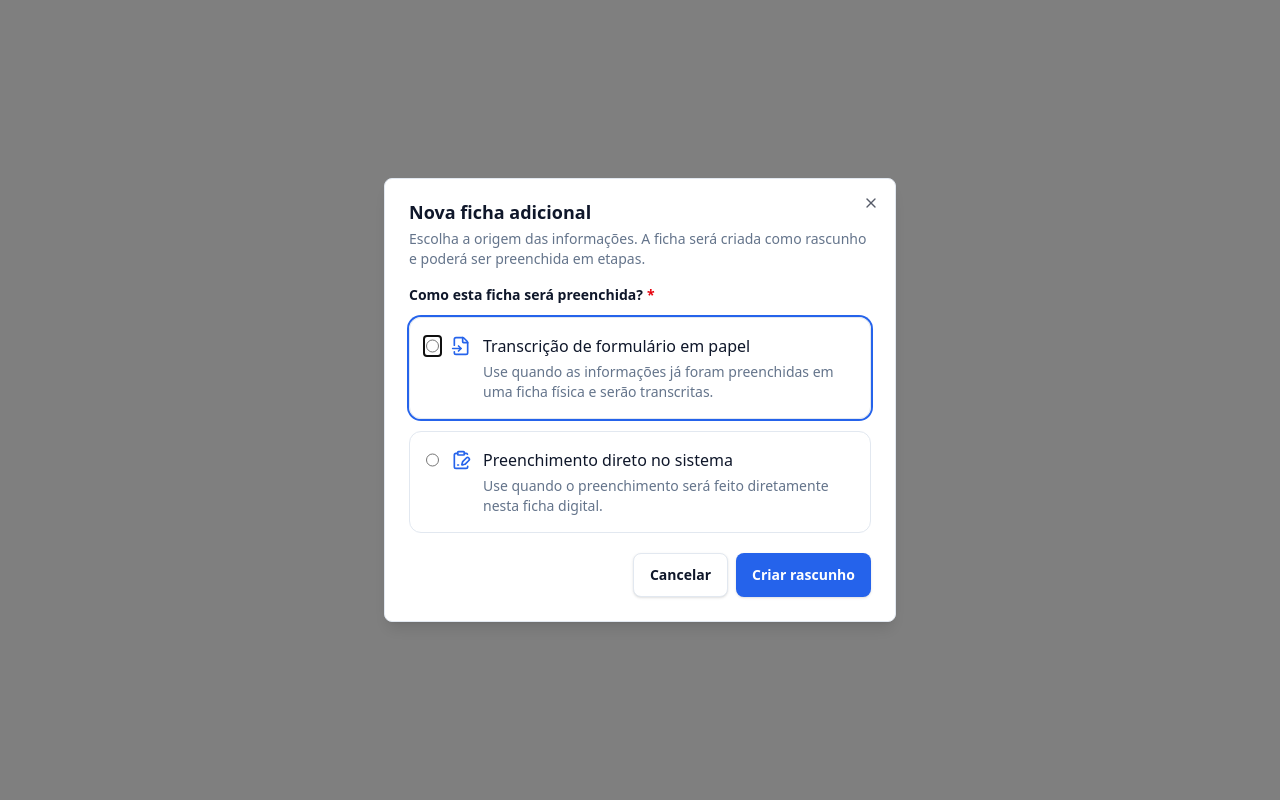
Test: CreateOratorianoFormDialog › exige a origem com mensagem explícita em português
Click the button "Criar rascunho" at (804, 575), box [736, 553, 871, 597]
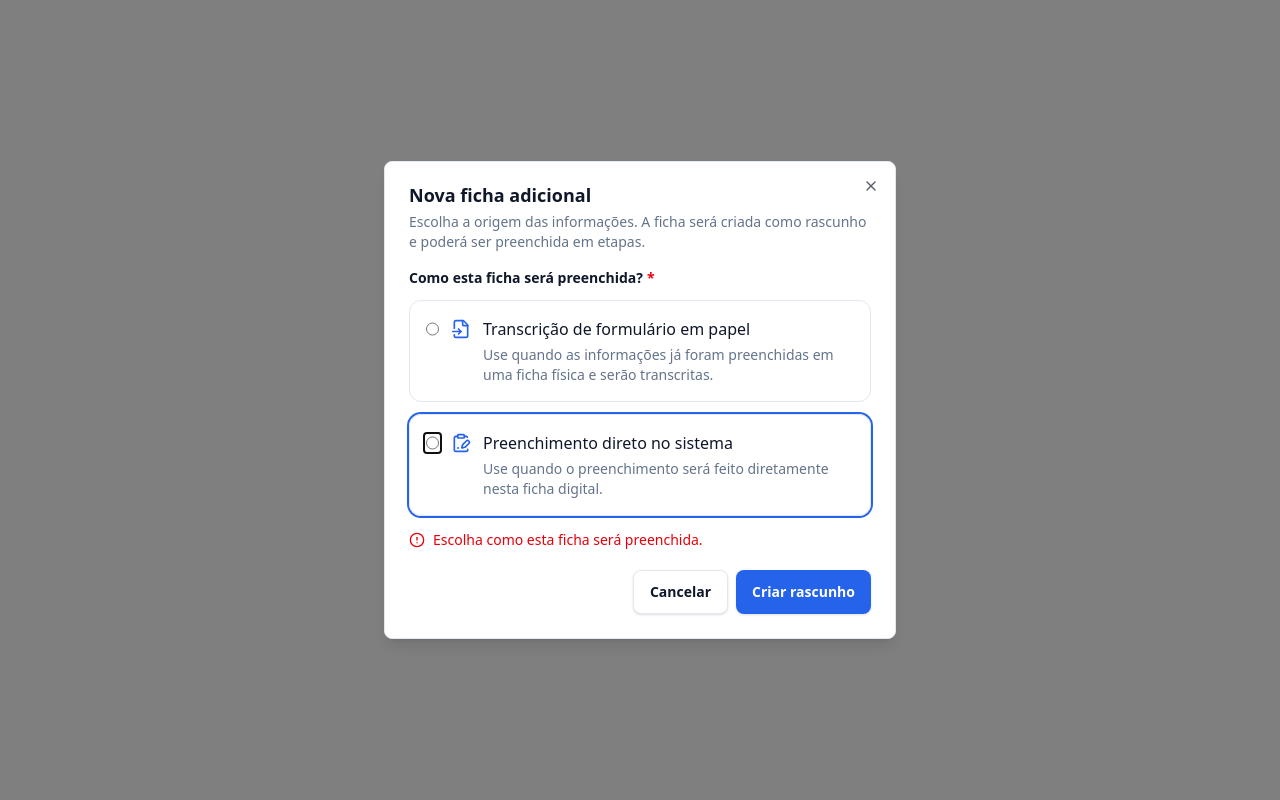
Check: the text "Escolha como esta ficha será preenchida." is shown, box [433, 530, 703, 550]
